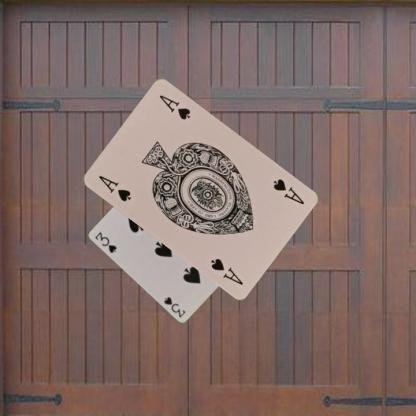3s: (92, 230, 118, 254)
As: (96, 173, 132, 203), (270, 176, 305, 206)
